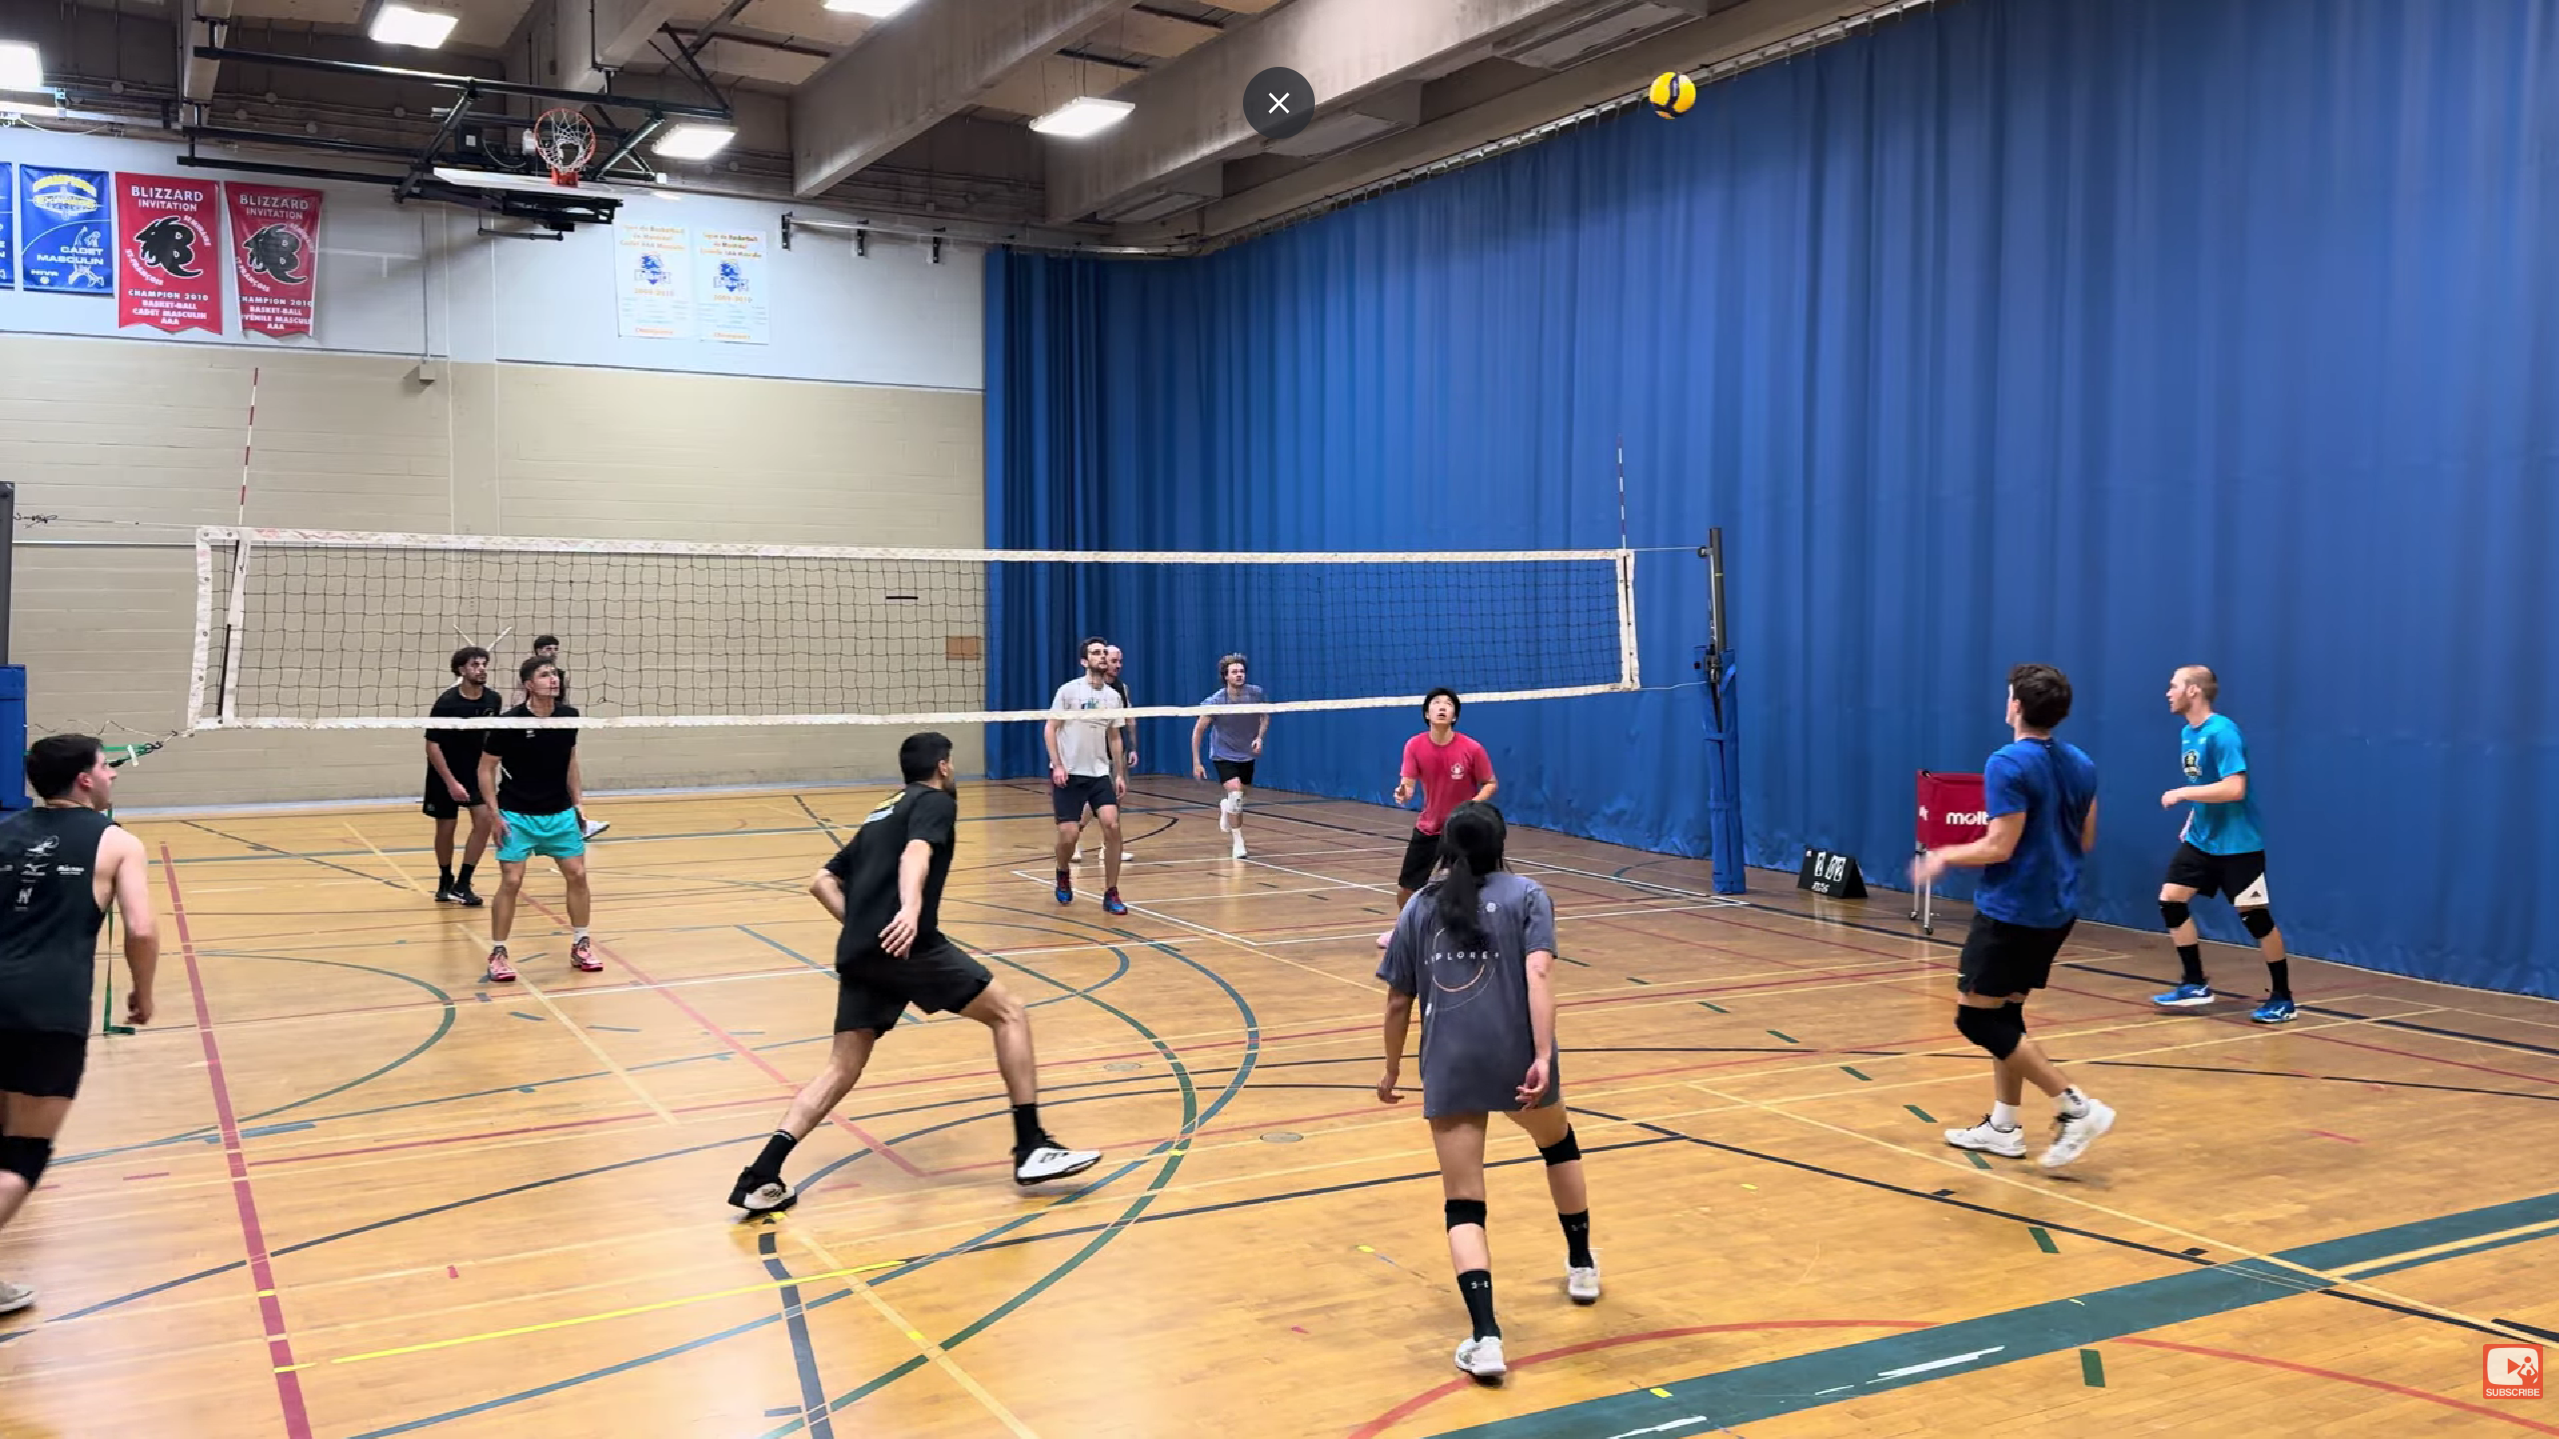Ball: (1647, 70, 1698, 119)
